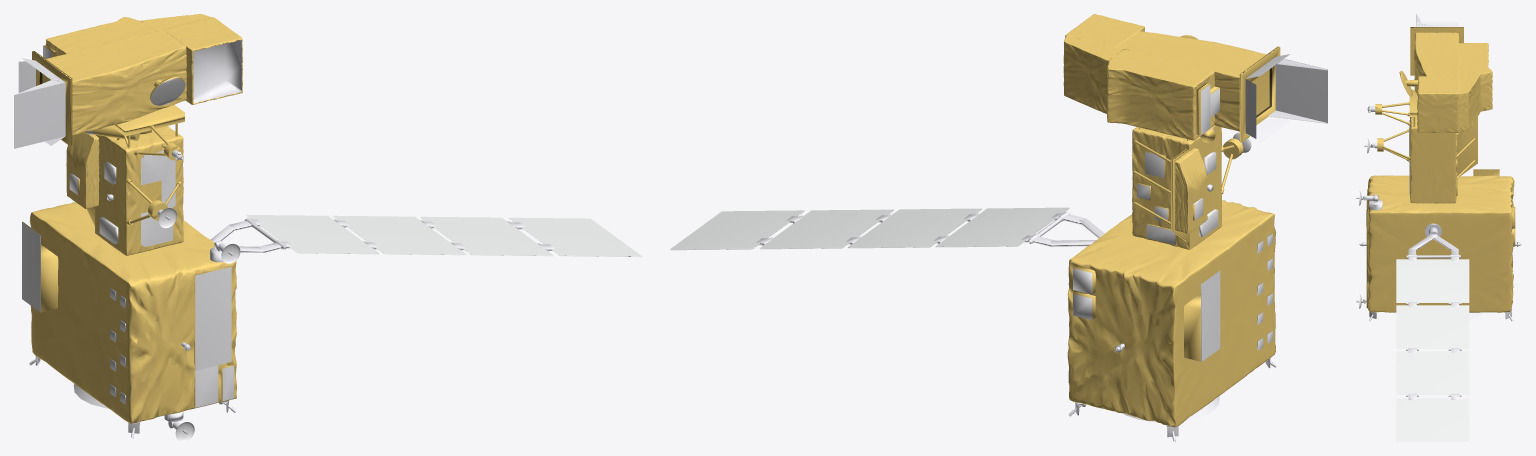
Rendered from landsat-7.glb.
3 renders of one model, left to right at view 1: azimuth 30°, elevation 25°; view 2: azimuth 150°, elevation 25°; view 3: azimuth 270°, elevation 25°, orthographic. The views are drawn at different scales.
Parts seen in each view (by area): view 1: external hardware, Solar Panel; view 2: external hardware, Solar Panel; view 3: external hardware, Solar Panel.
Boxes of the visible parts, box(x1,y1,x2,y2) form: external hardware: box(14, 14, 242, 441); Solar Panel: box(210, 215, 641, 257); external hardware: box(1063, 14, 1327, 441); Solar Panel: box(670, 207, 1104, 250); external hardware: box(1356, 14, 1521, 321); Solar Panel: box(1396, 223, 1469, 441).
Bounding box in the file's own units: 1.26 × 0.6957 × 0.4112.
4 materials, 4 textured.
